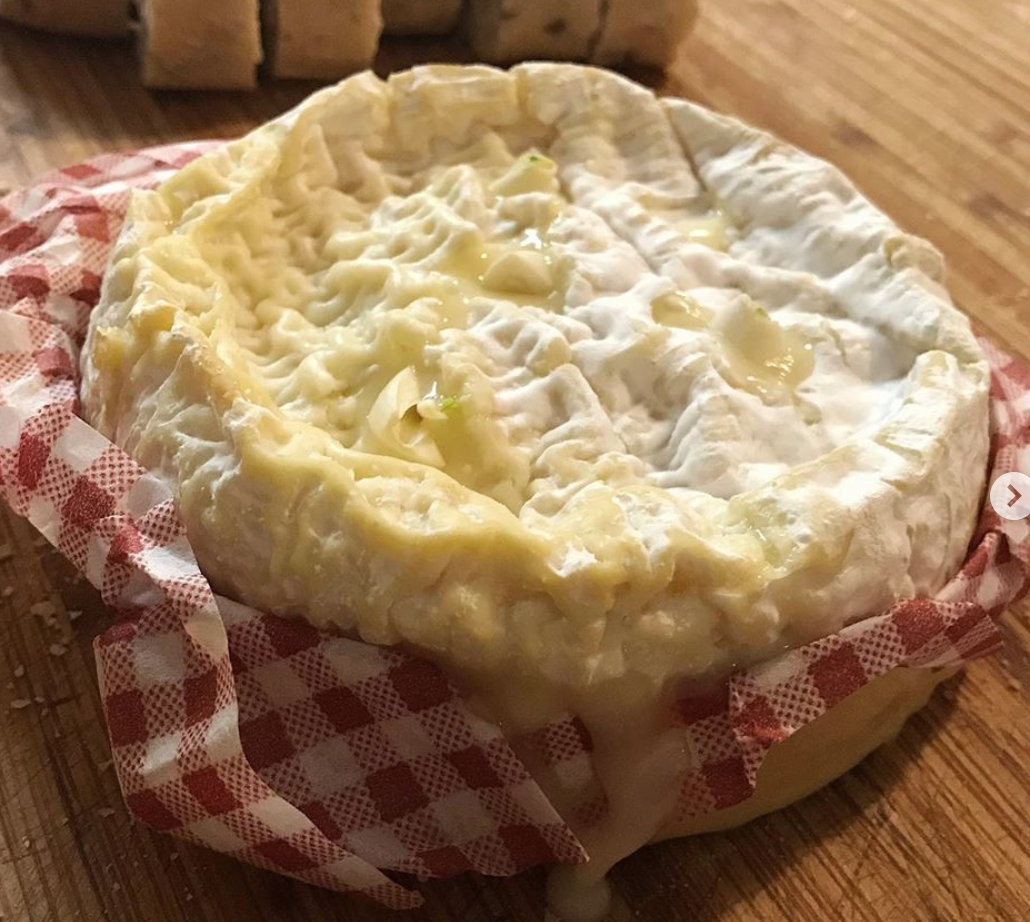camembert: (78, 62, 995, 768)
